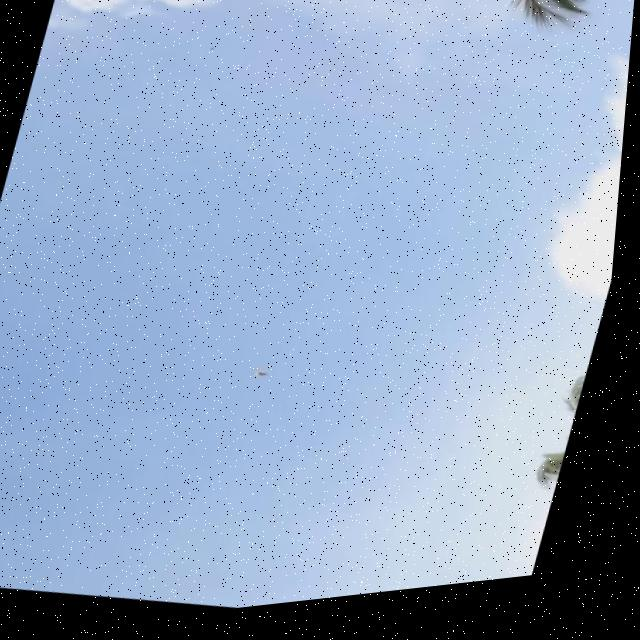drones: (201, 327, 325, 460)
